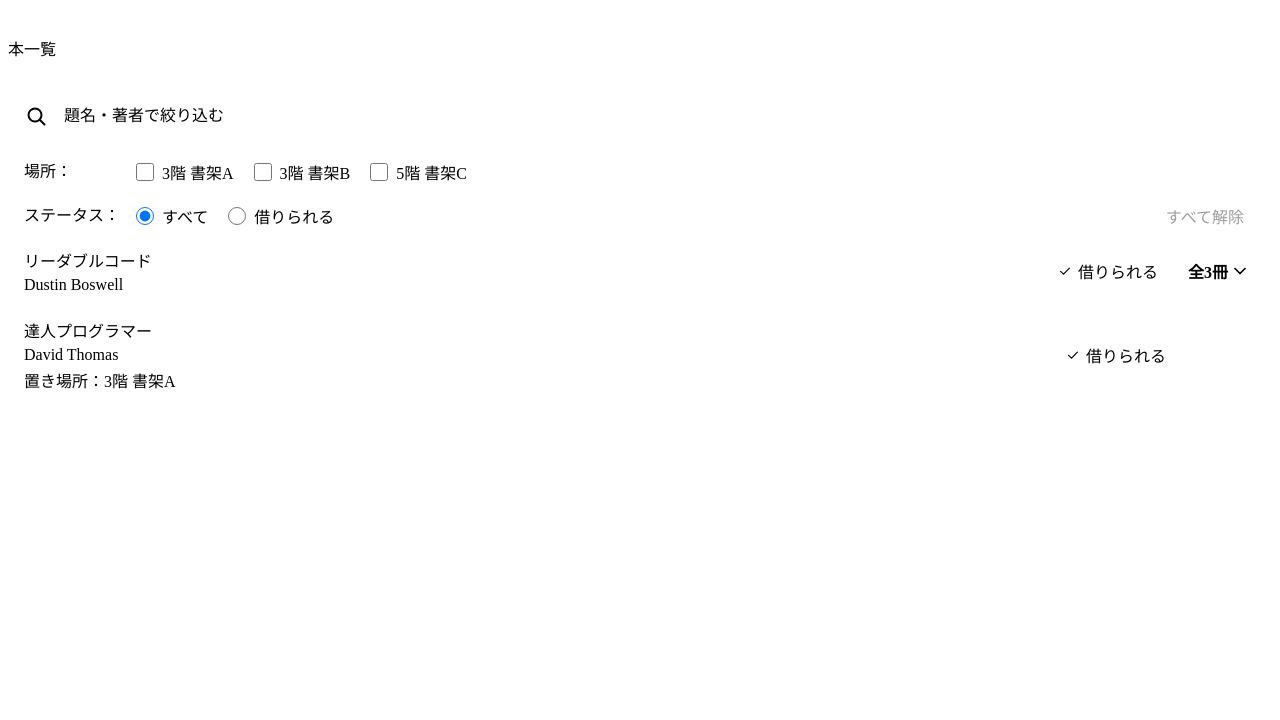
Test case: BookListPage の同じ本のまとまり › SB-41: 開いた1冊の行は、その本の本詳細画面へのリンクで、押すと移動する
Click the button "リーダブルコード Dustin Boswell 借りられる 全3冊" at [88, 262], box [8,236,1272,306]
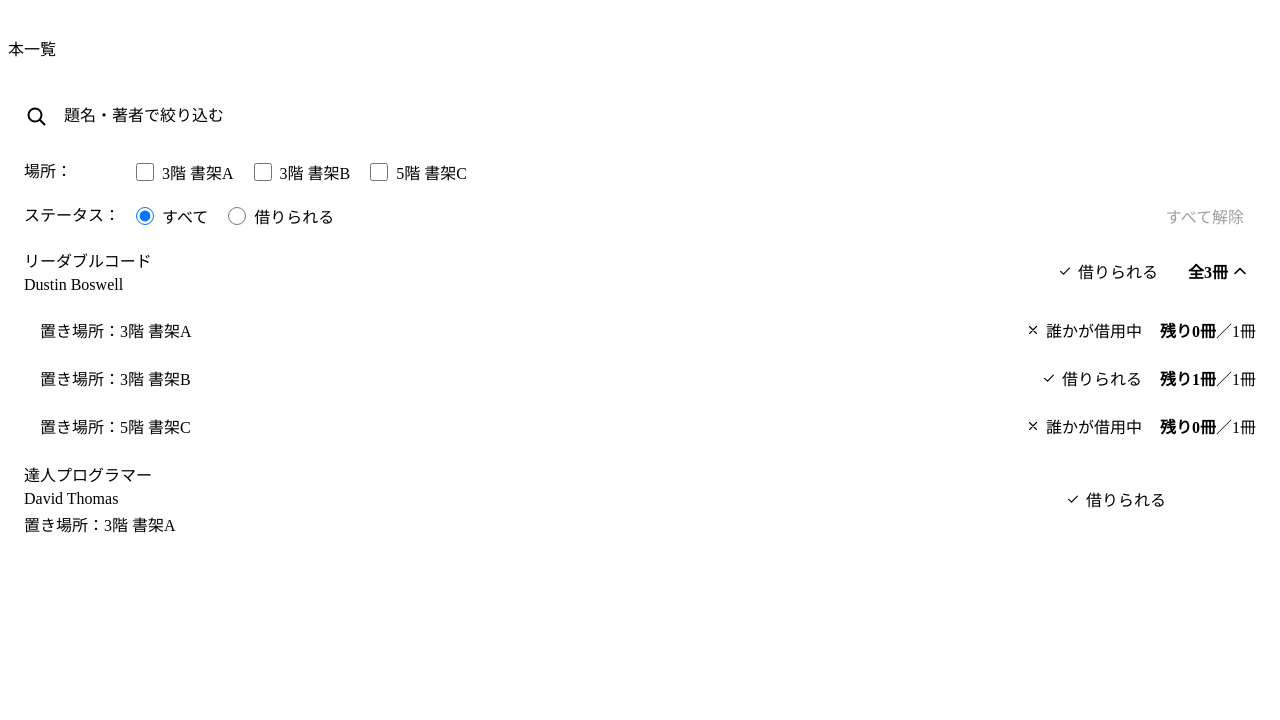
Click the link "置き場所：3階 書架B 借りられる 残り1冊／1冊" at [80, 380], box [40,371,1256,388]
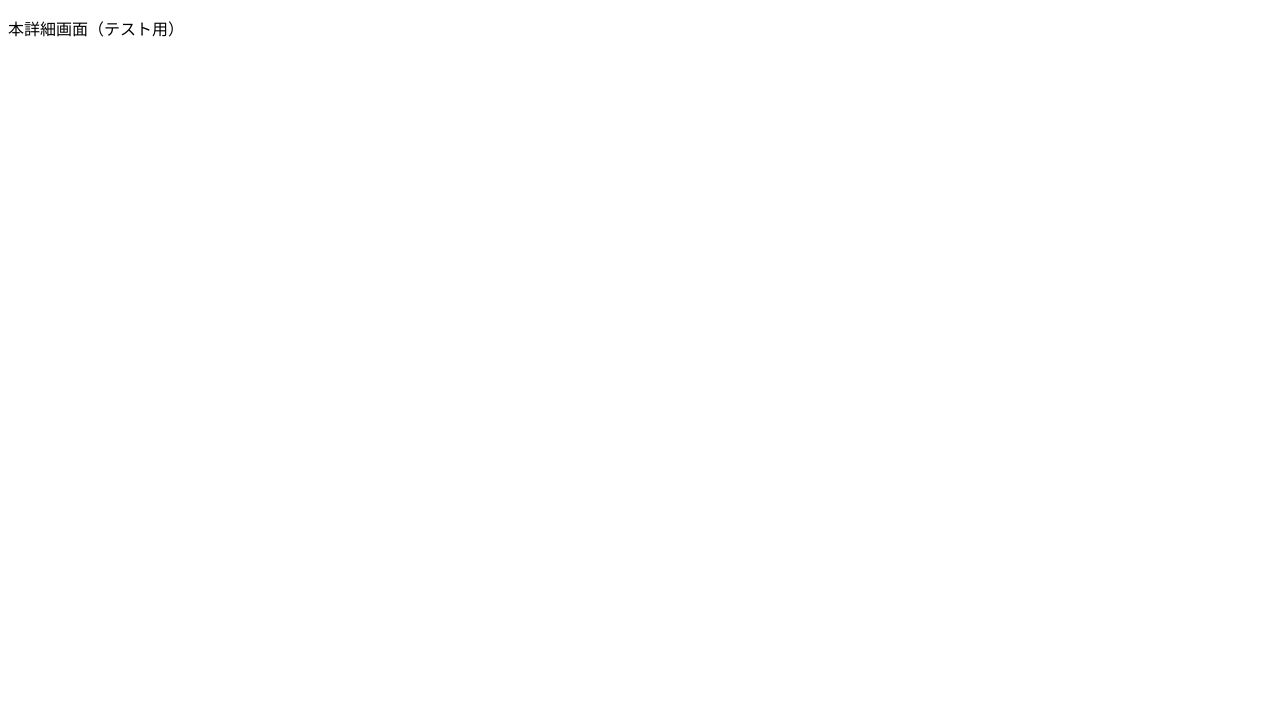
Expected: the text "本詳細画面（テスト用）" is shown, [8,21,184,38]
